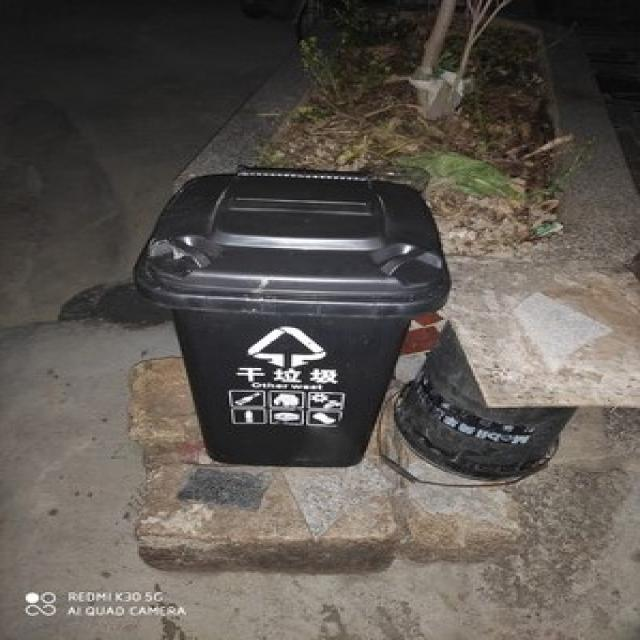ash bin: (127, 164, 450, 466)
